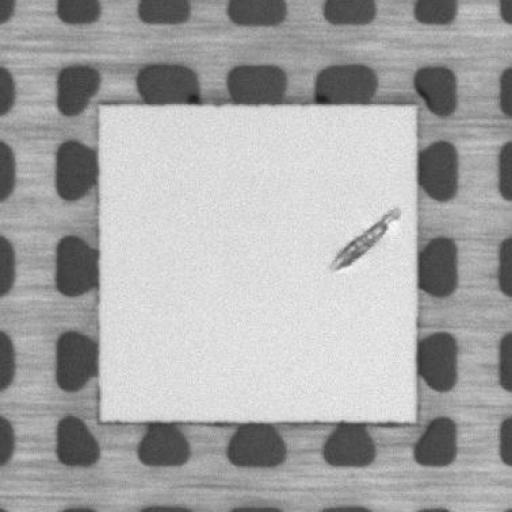DIE_INK: (323, 202, 404, 275)
